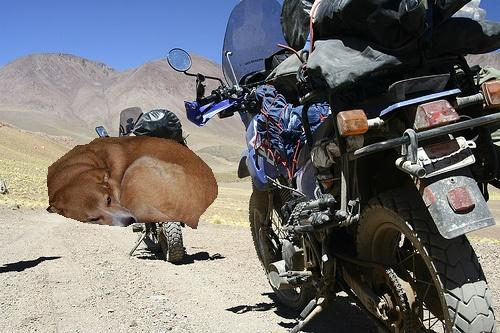tampered: (47, 137, 218, 229)
